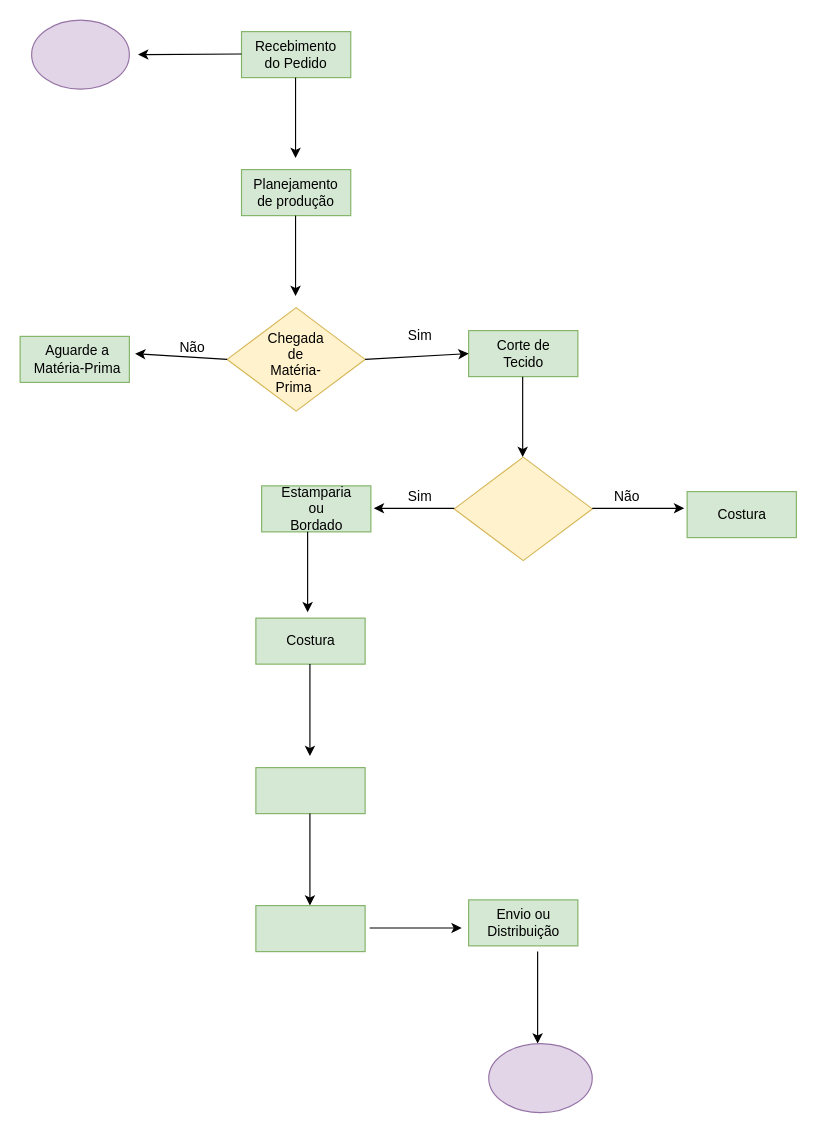
Image size: 817x1133. Some labels were removed from this diagram. Here are the shapes that lost their labels. From the top down, the box of each, then its label:
(30, 19, 129, 89): inicio
(453, 456, 592, 561): Estamparia ou Bordado?
(255, 766, 365, 814): Acabamento
(255, 904, 365, 952): Embalagem
(488, 1042, 592, 1113): FIm
